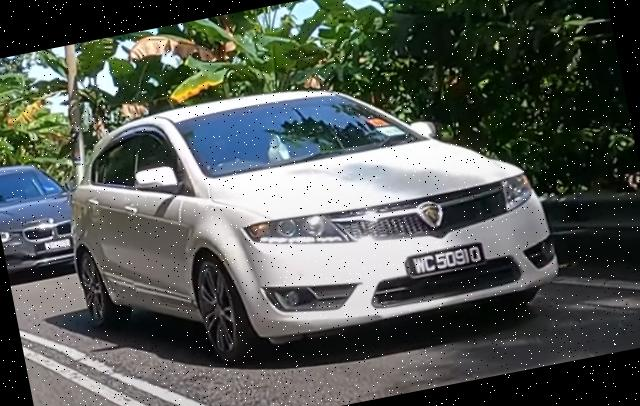License_Plate: (403, 242, 487, 282)
car: (48, 42, 567, 392)
